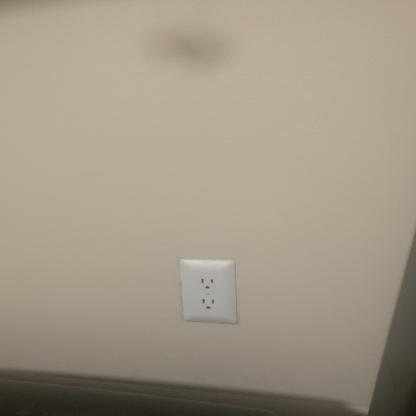OUTLET: (178, 258, 238, 322)
